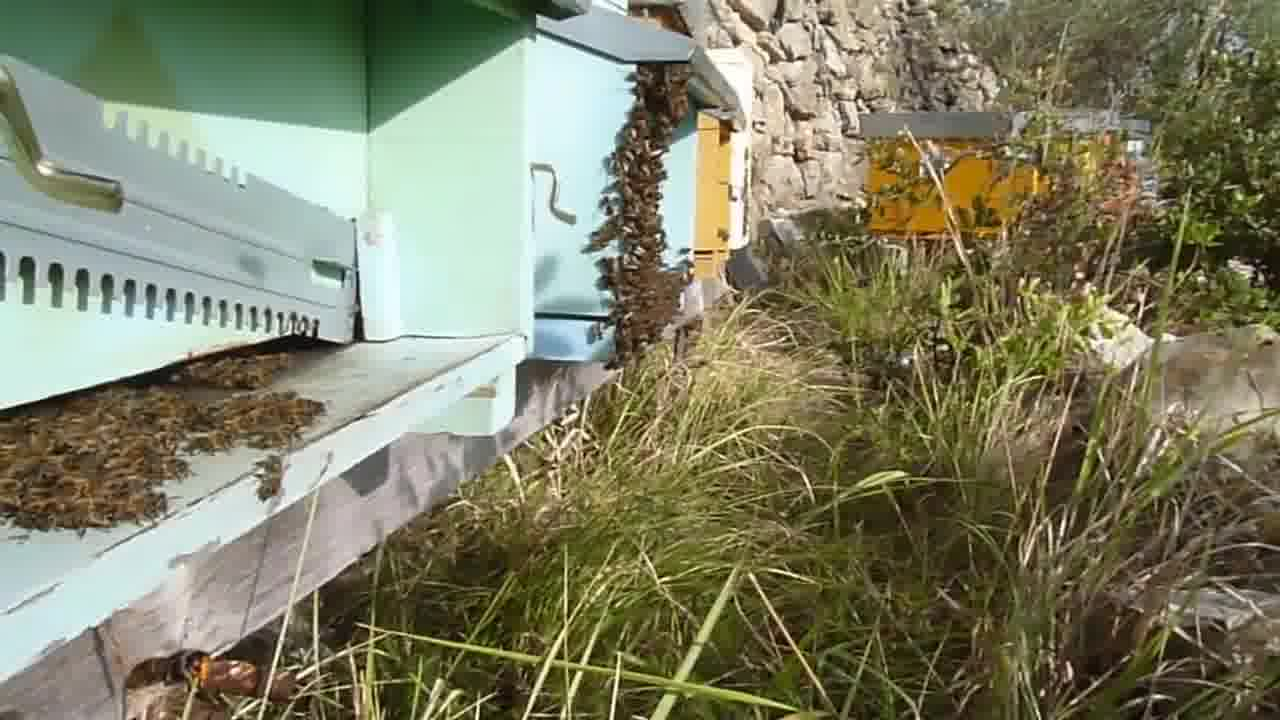bee: (4, 402, 164, 539), (166, 391, 329, 459), (578, 290, 685, 358), (605, 132, 676, 225), (591, 220, 676, 286), (630, 60, 696, 140), (175, 354, 292, 394), (247, 458, 293, 512)
hornet: (119, 634, 222, 706)
